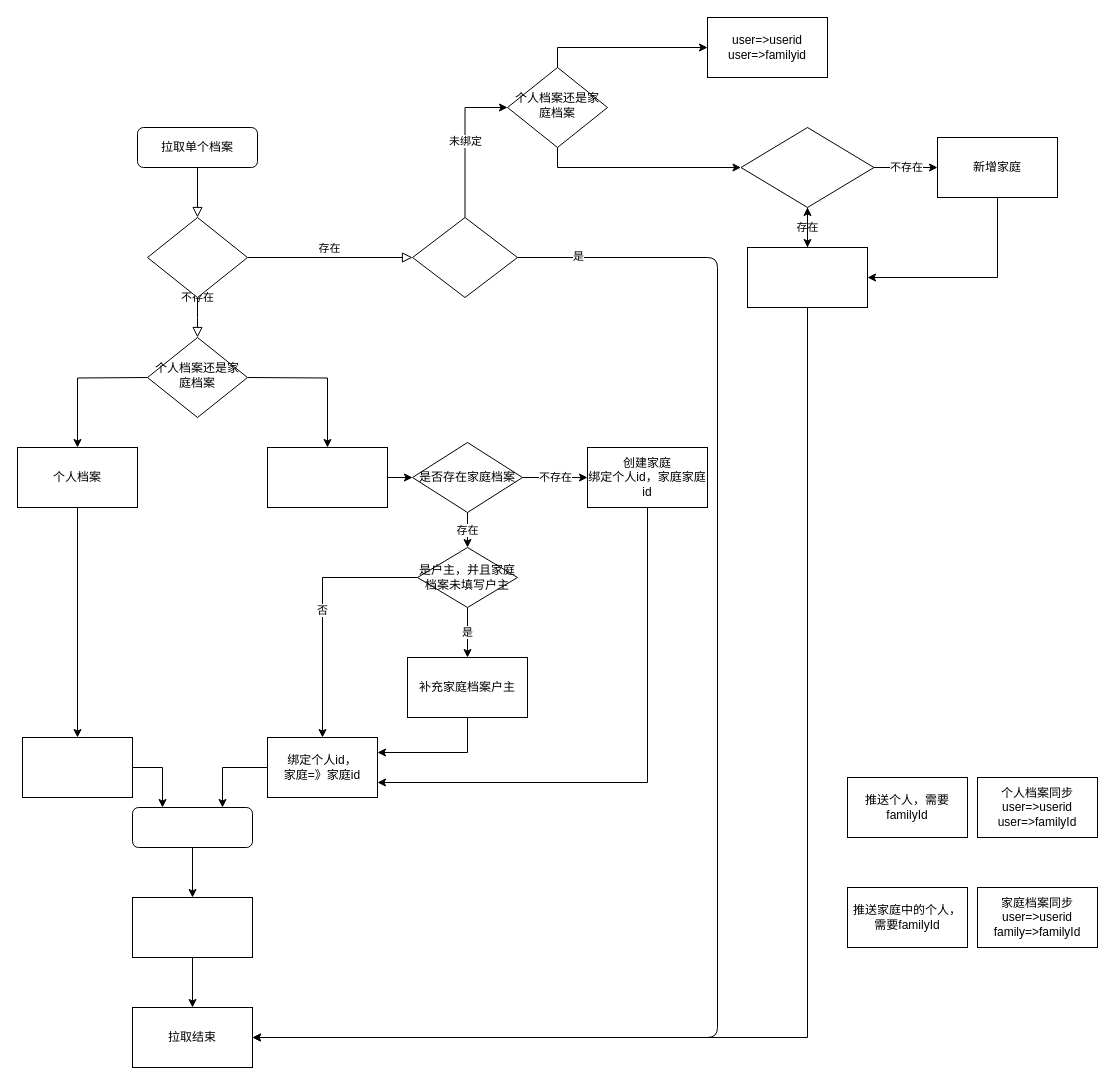
Some shapes in this 1115 by 1085 pixel diagram are drawn without their labels. Here are the shapes that lost their labels. From the top down, the box of each, then its label:
(740, 126, 874, 208): 家医是否存在家庭
(146, 216, 248, 298): 档案是否存在，根据身份证
(412, 216, 518, 298): 是否绑定过个人编号，家庭编号
(746, 246, 868, 308): 绑定 user=>userid family=>familyid
(266, 446, 388, 508): 家庭档案
(22, 736, 132, 798): 绑定个人id，个人家庭id
(132, 806, 252, 848): 组装其他数据
(132, 896, 252, 958): 保存到数据库
